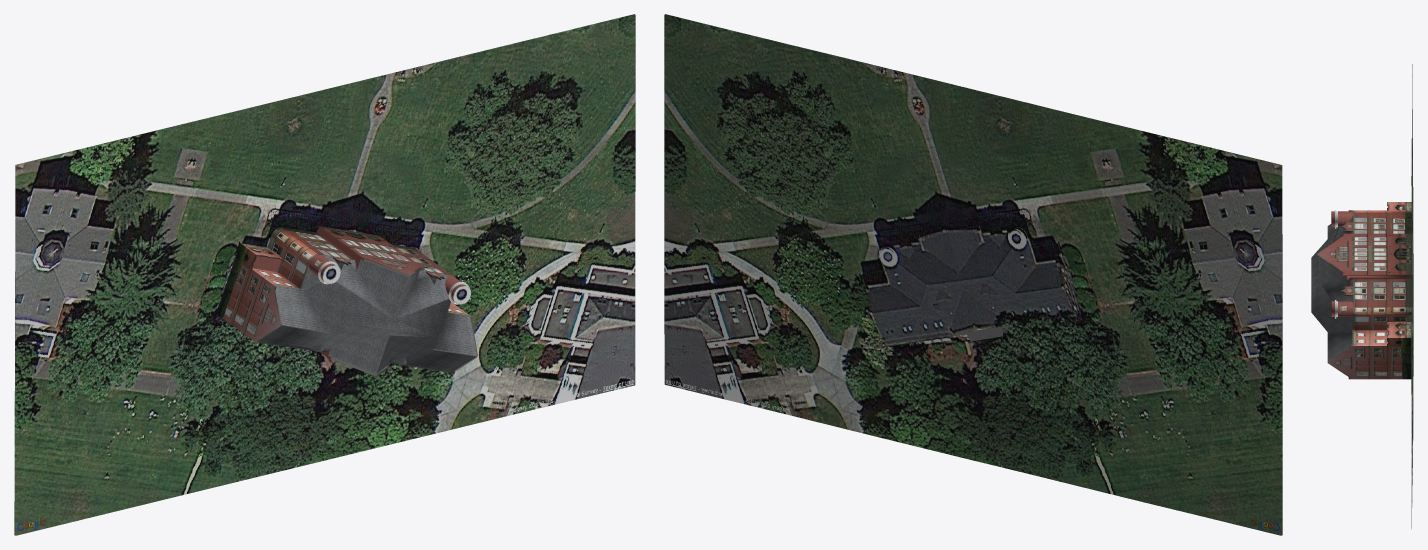
The model's file is EatonHall2.obj.
3 renders of one model, left to right at view 1: azimuth 30°, elevation 25°; view 2: azimuth 150°, elevation 25°; view 3: azimuth 270°, elevation 25°, orthographic. The views are drawn at different scales.
Visible parts, largest first — view 1: g Google Earth Snapshot, g Google Earth Terrain, defaultobject; view 2: g Google Earth Terrain, g Google Earth Snapshot; view 3: defaultobject, g Google Earth Terrain.
Boxes of the visible parts, bbox=[...] form: g Google Earth Snapshot: bbox=[15, 14, 634, 535]; g Google Earth Terrain: bbox=[14, 14, 635, 535]; defaultobject: bbox=[216, 226, 477, 376]; g Google Earth Terrain: bbox=[665, 14, 1282, 535]; g Google Earth Snapshot: bbox=[664, 14, 1282, 535]; defaultobject: bbox=[1311, 202, 1412, 379]; g Google Earth Terrain: bbox=[1411, 64, 1413, 528].
Size of the model in its own units: 138423 by 79256 by 25628.
